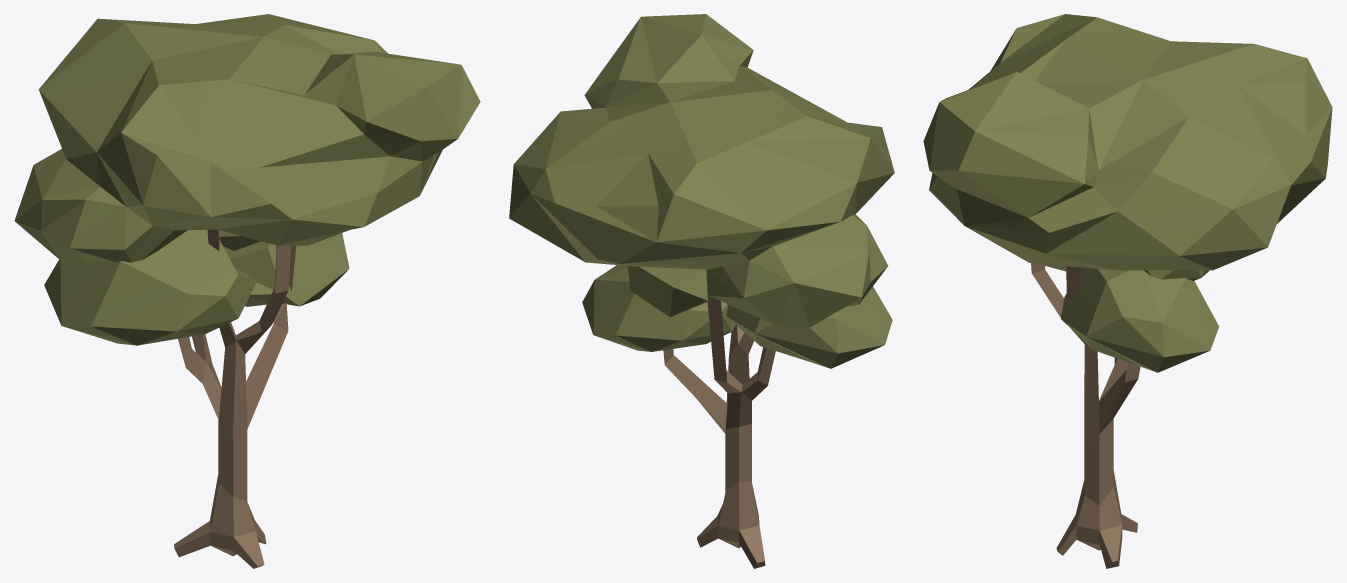
The model's file is SM_Env_Tree_02.fbx.
The picture shows the model from 3 angles, left to right: view 1: azimuth 30°, elevation 25°; view 2: azimuth 150°, elevation 25°; view 3: azimuth 270°, elevation 25°; orthographic projection. The views are drawn at different scales.
Parts seen in each view (by area): view 1: SM_Env_Tree_02; view 2: SM_Env_Tree_02; view 3: SM_Env_Tree_02.
Part boxes in pixels (box(x1,y1,x2,y2)): SM_Env_Tree_02: box(14, 14, 480, 568); SM_Env_Tree_02: box(509, 14, 894, 568); SM_Env_Tree_02: box(923, 14, 1332, 568).
Size of the model in its own units: 580 by 750 by 536.
Materials: 1 (1 with a texture image).
